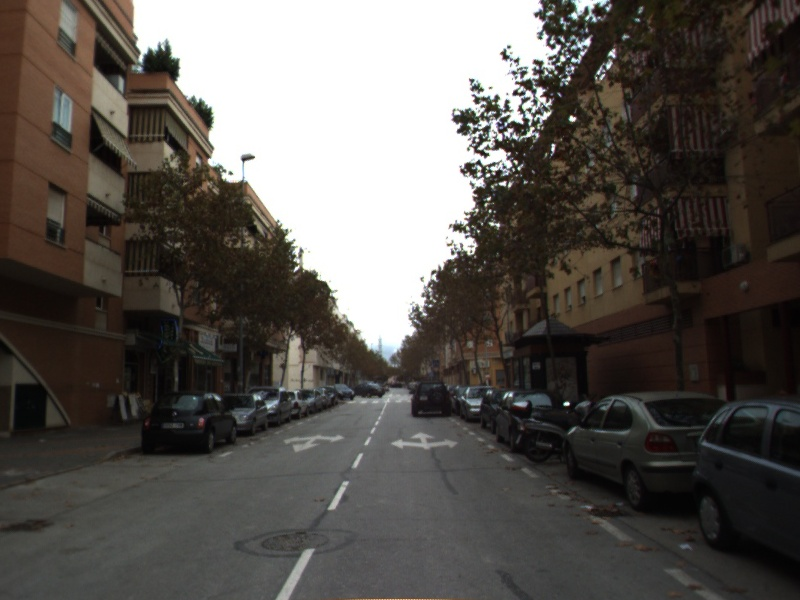STRAIGHT_LEFT_RIGHT: (389, 431, 461, 451)
